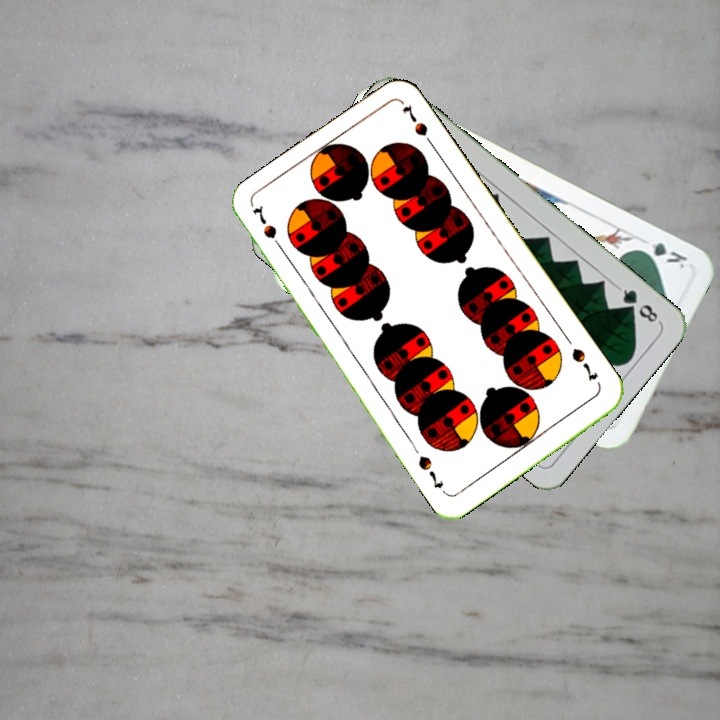G8: (613, 283, 663, 326)
GK: (633, 234, 690, 271)
S7: (248, 202, 288, 256), (567, 344, 601, 384)
